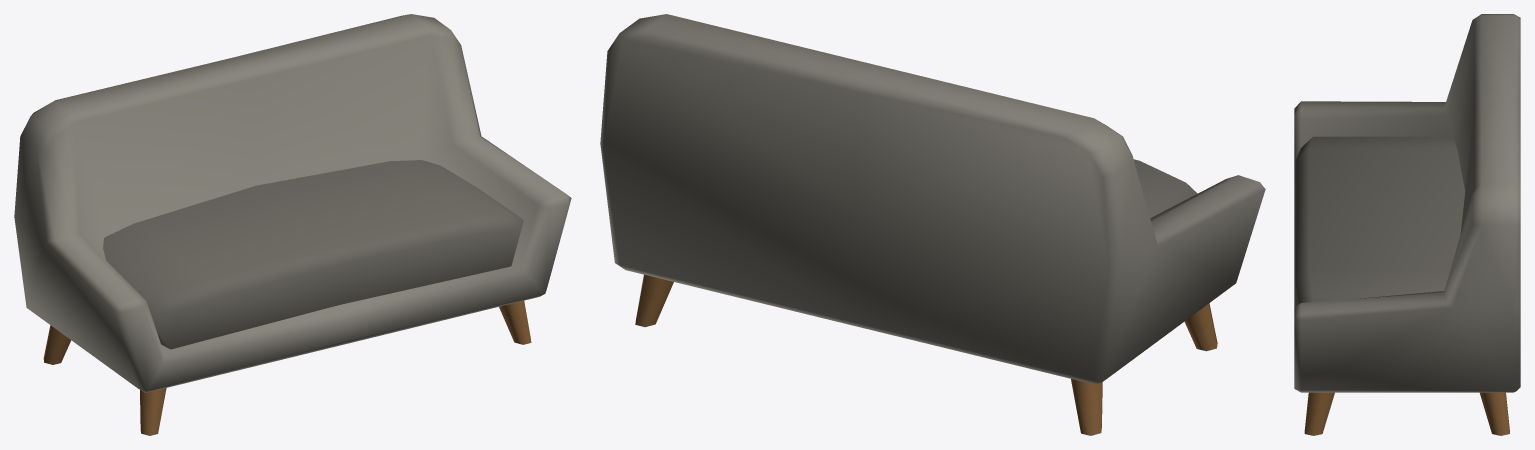
Rendered from 10_furniture_sofa.FBX.
3 renders of one model, left to right at view 1: azimuth 30°, elevation 25°; view 2: azimuth 150°, elevation 25°; view 3: azimuth 270°, elevation 25°, orthographic. The views are drawn at different scales.
Visible parts, largest first — view 1: furniture_sofa; view 2: furniture_sofa; view 3: furniture_sofa.
Part boxes in pixels (box(x1,y1,x2,y2)): furniture_sofa: box(14, 14, 571, 435); furniture_sofa: box(600, 14, 1265, 435); furniture_sofa: box(1294, 14, 1520, 435).
Bounding box in the file's own units: 147 × 77.15 × 64.92.
